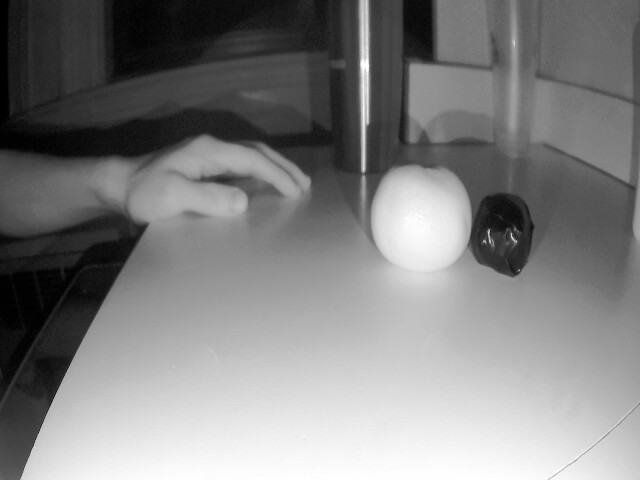silver: (477, 180, 542, 279)
